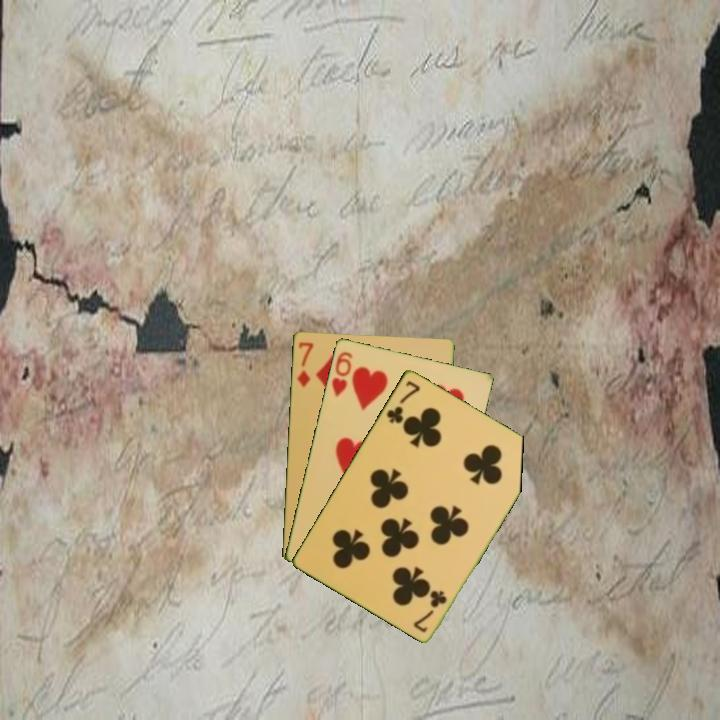6h: (328, 348, 355, 399)
7c: (383, 377, 423, 426), (411, 586, 450, 635)
7d: (293, 338, 316, 390)
